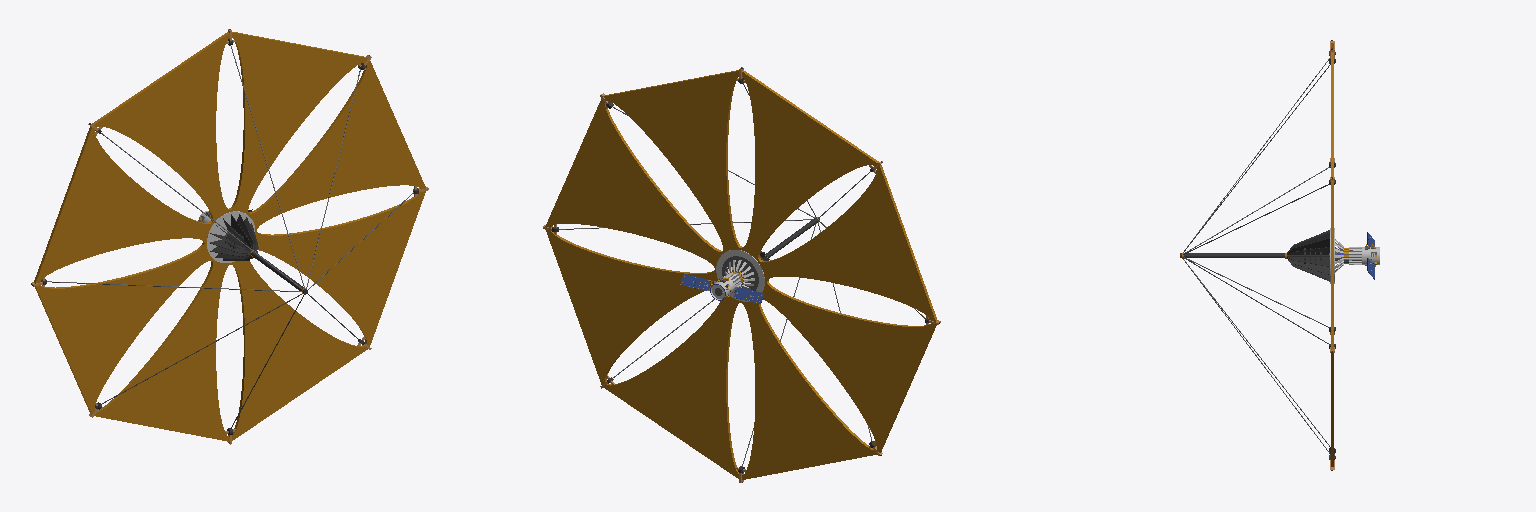
File: solarsail.obj
3 renders of one model, left to right at view 1: azimuth 30°, elevation 25°; view 2: azimuth 150°, elevation 25°; view 3: azimuth 270°, elevation 25°, orthographic.
Visible parts, largest first — view 1: Layer_0_Layer_0_SolarSail-Sailfaces_Layer_0_Layer_0_SolarSail-S, Layer_0_Layer_0_SolarSail-sailedge_Layer_0_Layer_0_SolarSail-sa, Layer_0_Layer_0_SolarSail-SailMountingDiskAssy_Layer_0_Layer_0_, Layer_0_Layer_0_SolarSail-MainBodyGrey_Layer_0_Layer_0_SolarSai, Layer_0_Layer_0_SolarSail-MainBodyWhite_Layer_0_Layer_0_SolarSa; view 2: Layer_0_Layer_0_SolarSail-Sailfaces_Layer_0_Layer_0_SolarSail-S, Layer_0_Layer_0_SolarSail-sailedge_Layer_0_Layer_0_SolarSail-sa, Layer_0_Layer_0_SolarSail-MainBodyGrey_Layer_0_Layer_0_SolarSai, Layer_0_Layer_0_SolarSail-MainBodyWhite_Layer_0_Layer_0_SolarSa, Layer_0_Layer_0_SolarSail-SailMountingDiskAssy_Layer_0_Layer_0_, Layer_0_Layer_0_JoinedMaterial_#8_Layer_0_Layer_0_JoinedMateria; view 3: Layer_0_Layer_0_SolarSail-SailMountingDiskAssy_Layer_0_Layer_0_, Layer_0_Layer_0_SolarSail-MainBodyGrey_Layer_0_Layer_0_SolarSai, Layer_0_Layer_0_SolarSail-sailedge_Layer_0_Layer_0_SolarSail-sa, Layer_0_Layer_0_SolarSail-MainBodyWhite_Layer_0_Layer_0_SolarSa.
Boxes of the visible parts, x1,y1,x2,y2 form: Layer_0_Layer_0_SolarSail-Sailfaces_Layer_0_Layer_0_SolarSail-S: [36, 33, 425, 441]; Layer_0_Layer_0_SolarSail-sailedge_Layer_0_Layer_0_SolarSail-sa: [34, 32, 420, 436]; Layer_0_Layer_0_SolarSail-SailMountingDiskAssy_Layer_0_Layer_0_: [31, 29, 418, 434]; Layer_0_Layer_0_SolarSail-MainBodyGrey_Layer_0_Layer_0_SolarSai: [47, 45, 413, 428]; Layer_0_Layer_0_SolarSail-MainBodyWhite_Layer_0_Layer_0_SolarSa: [198, 211, 254, 262]; Layer_0_Layer_0_SolarSail-Sailfaces_Layer_0_Layer_0_SolarSail-S: [545, 71, 935, 479]; Layer_0_Layer_0_SolarSail-sailedge_Layer_0_Layer_0_SolarSail-sa: [550, 70, 937, 474]; Layer_0_Layer_0_SolarSail-MainBodyGrey_Layer_0_Layer_0_SolarSai: [559, 83, 924, 466]; Layer_0_Layer_0_SolarSail-MainBodyWhite_Layer_0_Layer_0_SolarSa: [711, 250, 764, 301]; Layer_0_Layer_0_SolarSail-SailMountingDiskAssy_Layer_0_Layer_0_: [552, 67, 939, 482]; Layer_0_Layer_0_JoinedMaterial_#8_Layer_0_Layer_0_JoinedMateria: [681, 274, 763, 303]; Layer_0_Layer_0_SolarSail-SailMountingDiskAssy_Layer_0_Layer_0_: [1180, 40, 1335, 470]; Layer_0_Layer_0_SolarSail-MainBodyGrey_Layer_0_Layer_0_SolarSai: [1183, 58, 1376, 453]; Layer_0_Layer_0_SolarSail-sailedge_Layer_0_Layer_0_SolarSail-sa: [1182, 43, 1333, 466]; Layer_0_Layer_0_SolarSail-MainBodyWhite_Layer_0_Layer_0_SolarSa: [1330, 228, 1379, 283].
Bounding box in the file's own units: 1.04 × 1.04 × 0.4546.